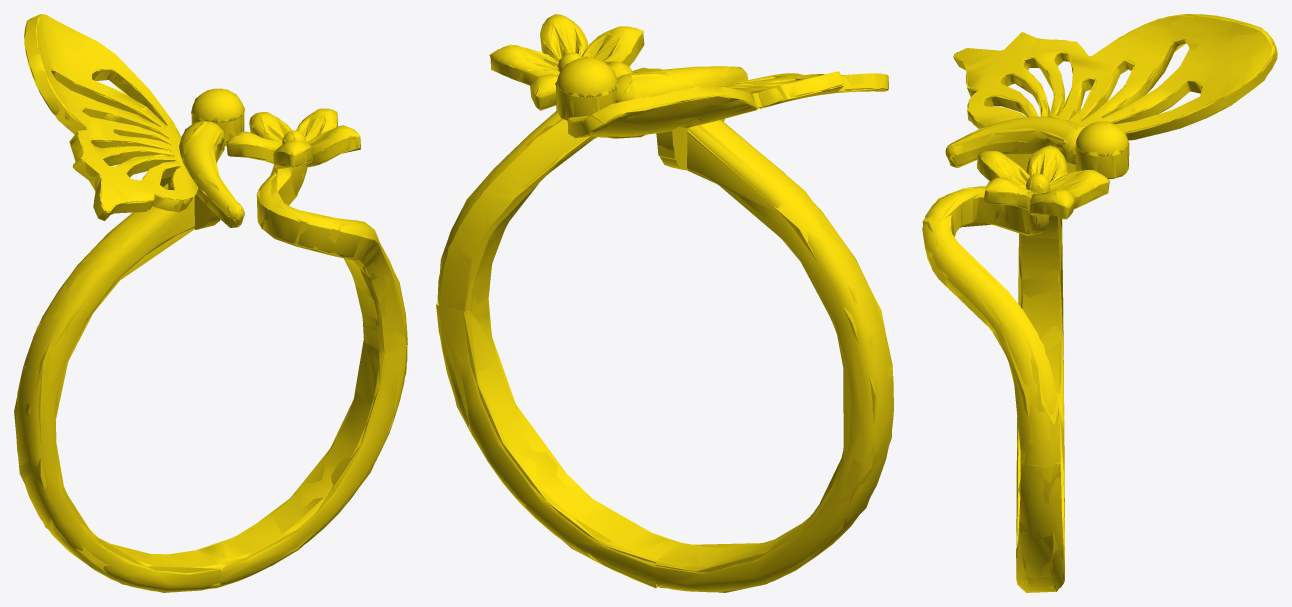
Rendered from GLR-SAD0003037.glb.
The picture shows the model from 3 angles, left to right: view 1: azimuth 30°, elevation 25°; view 2: azimuth 150°, elevation 25°; view 3: azimuth 270°, elevation 25°; orthographic projection. The views are drawn at different scales.
Visible parts, largest first — view 1: highPolyMesh, lowPolyMesh; view 2: highPolyMesh, lowPolyMesh; view 3: highPolyMesh, lowPolyMesh.
Boxes of the visible parts, x1,y1,x2,y2 form: highPolyMesh: (15, 14, 407, 592); lowPolyMesh: (14, 14, 407, 592); highPolyMesh: (437, 14, 893, 592); lowPolyMesh: (436, 14, 892, 592); highPolyMesh: (922, 14, 1277, 591); lowPolyMesh: (922, 14, 1277, 592).
Bounding box in the file's own units: 0.0203 × 0.0255 × 0.0161.
